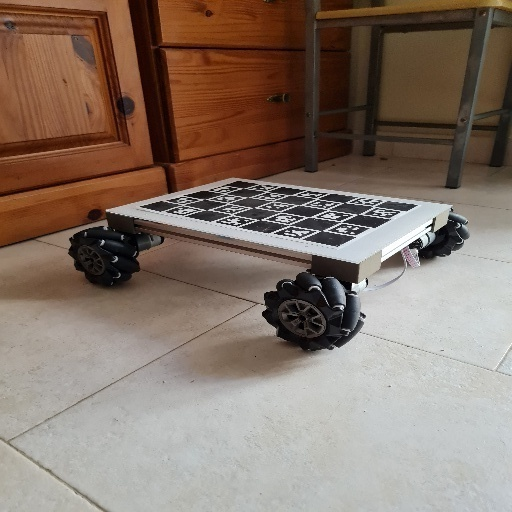Omniwheel: (67, 177, 469, 354)
